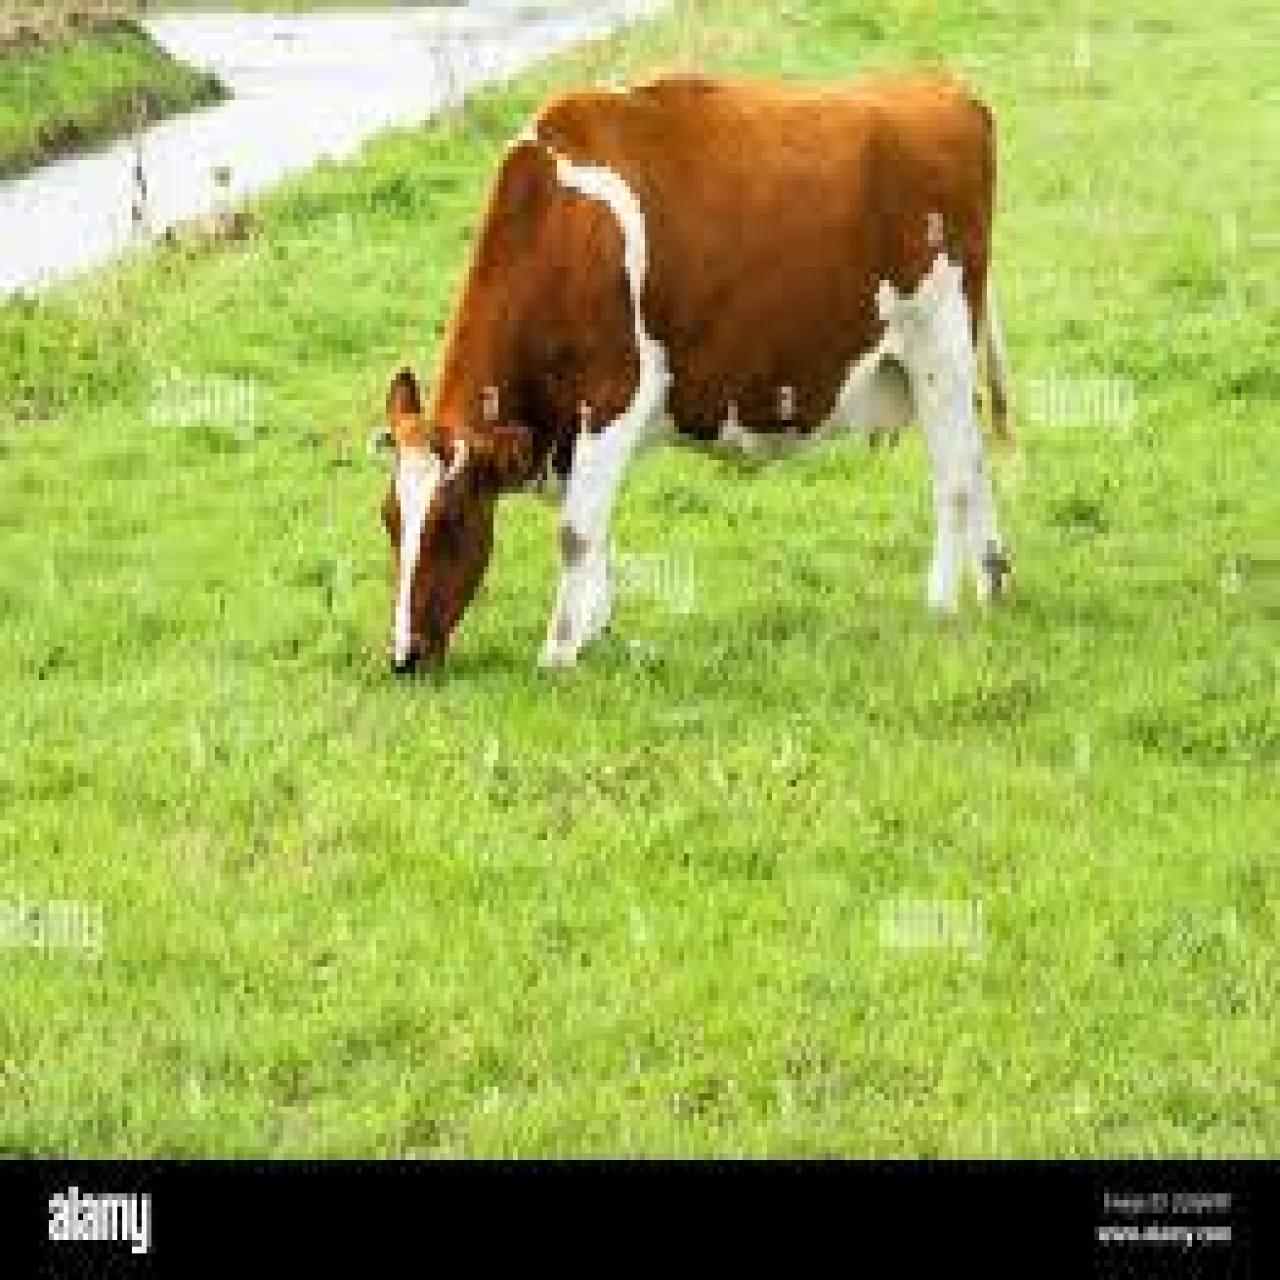cow: (381, 76, 1012, 683)
